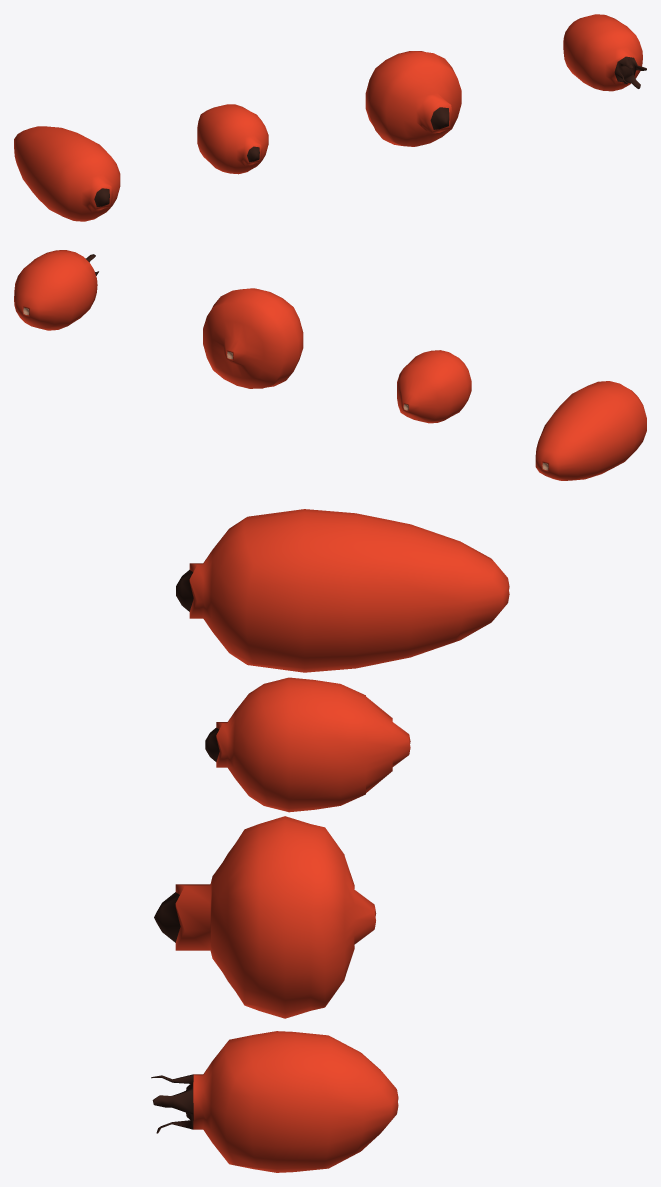
Rendered from rosehip collection.fbx.
The picture shows the model from 3 angles, top to bottom: view 1: azimuth 30°, elevation 25°; view 2: azimuth 150°, elevation 25°; view 3: azimuth 270°, elevation 25°; orthographic projection. The views are drawn at different scales.
Parts seen in each view (by area): view 1: rosehip looong, rosehip flat, rose hip, rosehip round; view 2: rosehip looong, rosehip flat, rose hip, rosehip round; view 3: rosehip looong, rosehip flat, rose hip, rosehip round.
Boxes of the visible parts, x1,y1,x2,y2 form: rosehip looong: (14,126,120,221); rosehip flat: (365,51,461,146); rose hip: (563,14,646,91); rosehip round: (197,104,268,174); rosehip looong: (535,381,646,480); rosehip flat: (203,288,303,388); rose hip: (14,250,98,330); rosehip round: (397,350,471,423); rosehip looong: (176,509,509,672); rosehip flat: (154,816,376,1018); rose hip: (151,1031,398,1172); rosehip round: (205,677,410,812).
Size of the model in its own units: 28.38 by 4.16 by 7.48.
